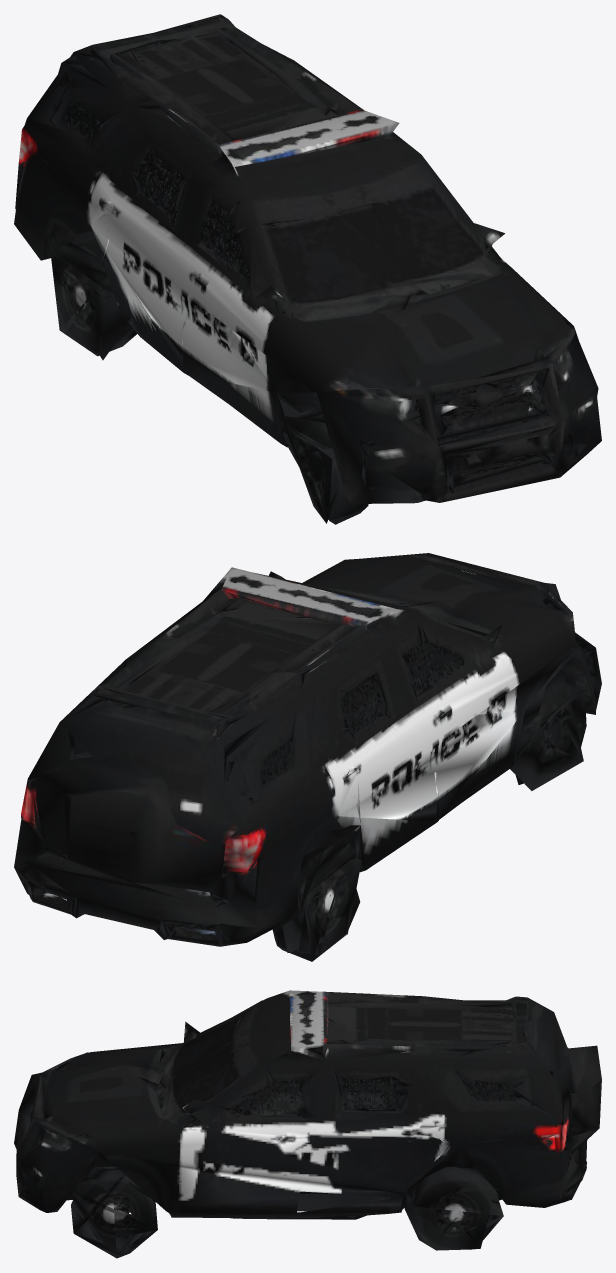
The model's file is police_suv.glb.
The picture shows the model from 3 angles, top to bottom: view 1: azimuth 30°, elevation 25°; view 2: azimuth 150°, elevation 25°; view 3: azimuth 270°, elevation 25°; orthographic projection. The views are drawn at different scales.
Parts seen in each view (by area): view 1: frame; view 2: frame; view 3: frame.
Part boxes in pixels (left/top/right/bottom): frame: left=14, top=14, right=601, bottom=524; frame: left=14, top=553, right=601, bottom=961; frame: left=14, top=990, right=601, bottom=1258.
Bounding box in the file's own units: 1.75 × 1.68 × 4.59.
Materials: 1 (1 with a texture image).
